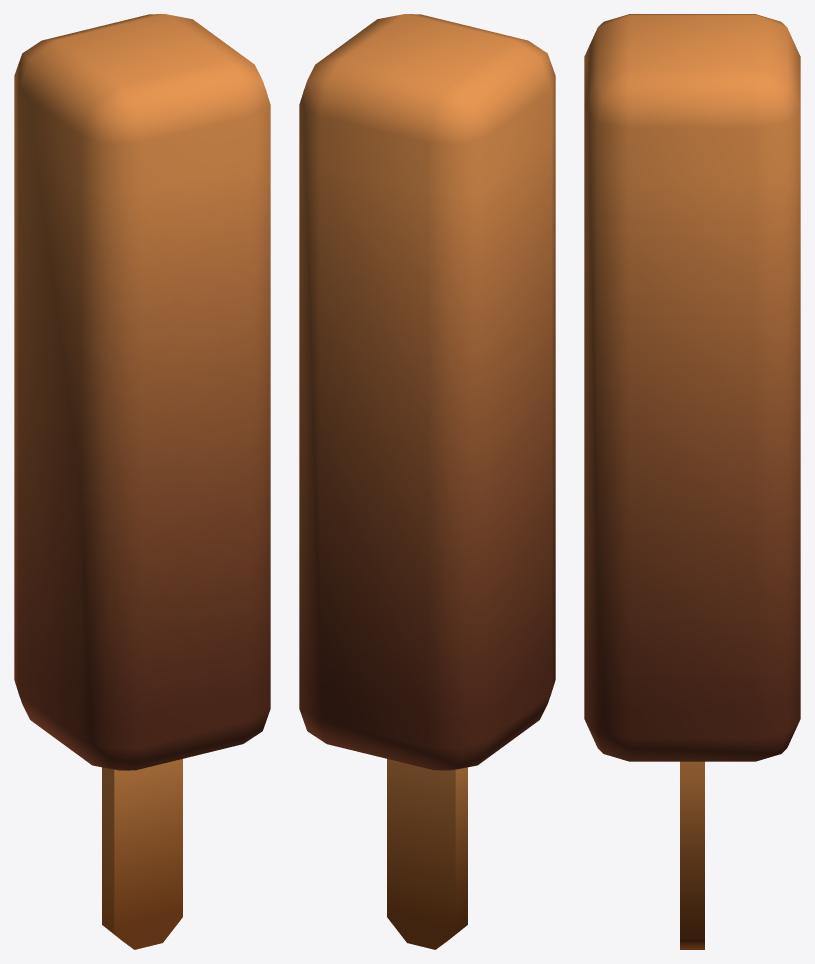
Rendered from m_SquarePopsicle03.fbx.
3 renders of one model, left to right at view 1: azimuth 30°, elevation 25°; view 2: azimuth 150°, elevation 25°; view 3: azimuth 270°, elevation 25°, orthographic.
Visible parts, largest first — view 1: m_SquarePopsicle03; view 2: m_SquarePopsicle03; view 3: m_SquarePopsicle03.
Part boxes in pixels (x1,y1,x2,y2): m_SquarePopsicle03: (14,14,270,949); m_SquarePopsicle03: (299,14,555,949); m_SquarePopsicle03: (584,14,800,949).
Size of the model in its own units: 5 by 23.01 by 5.
